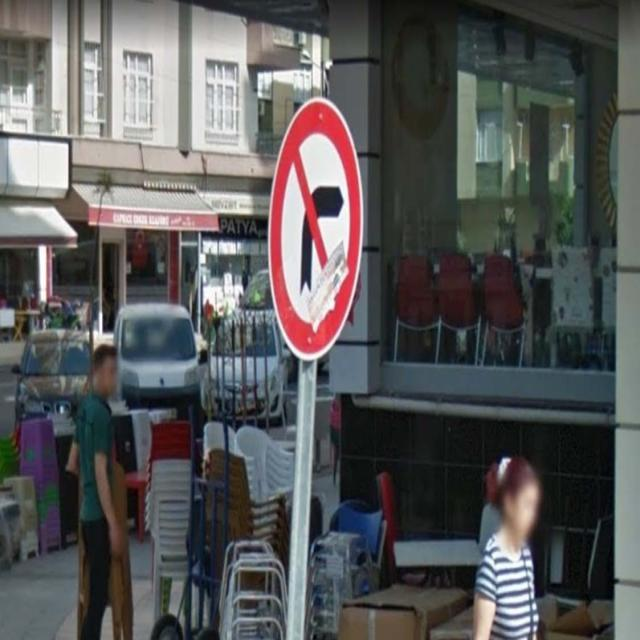sagadonulmez: (268, 96, 362, 361)
